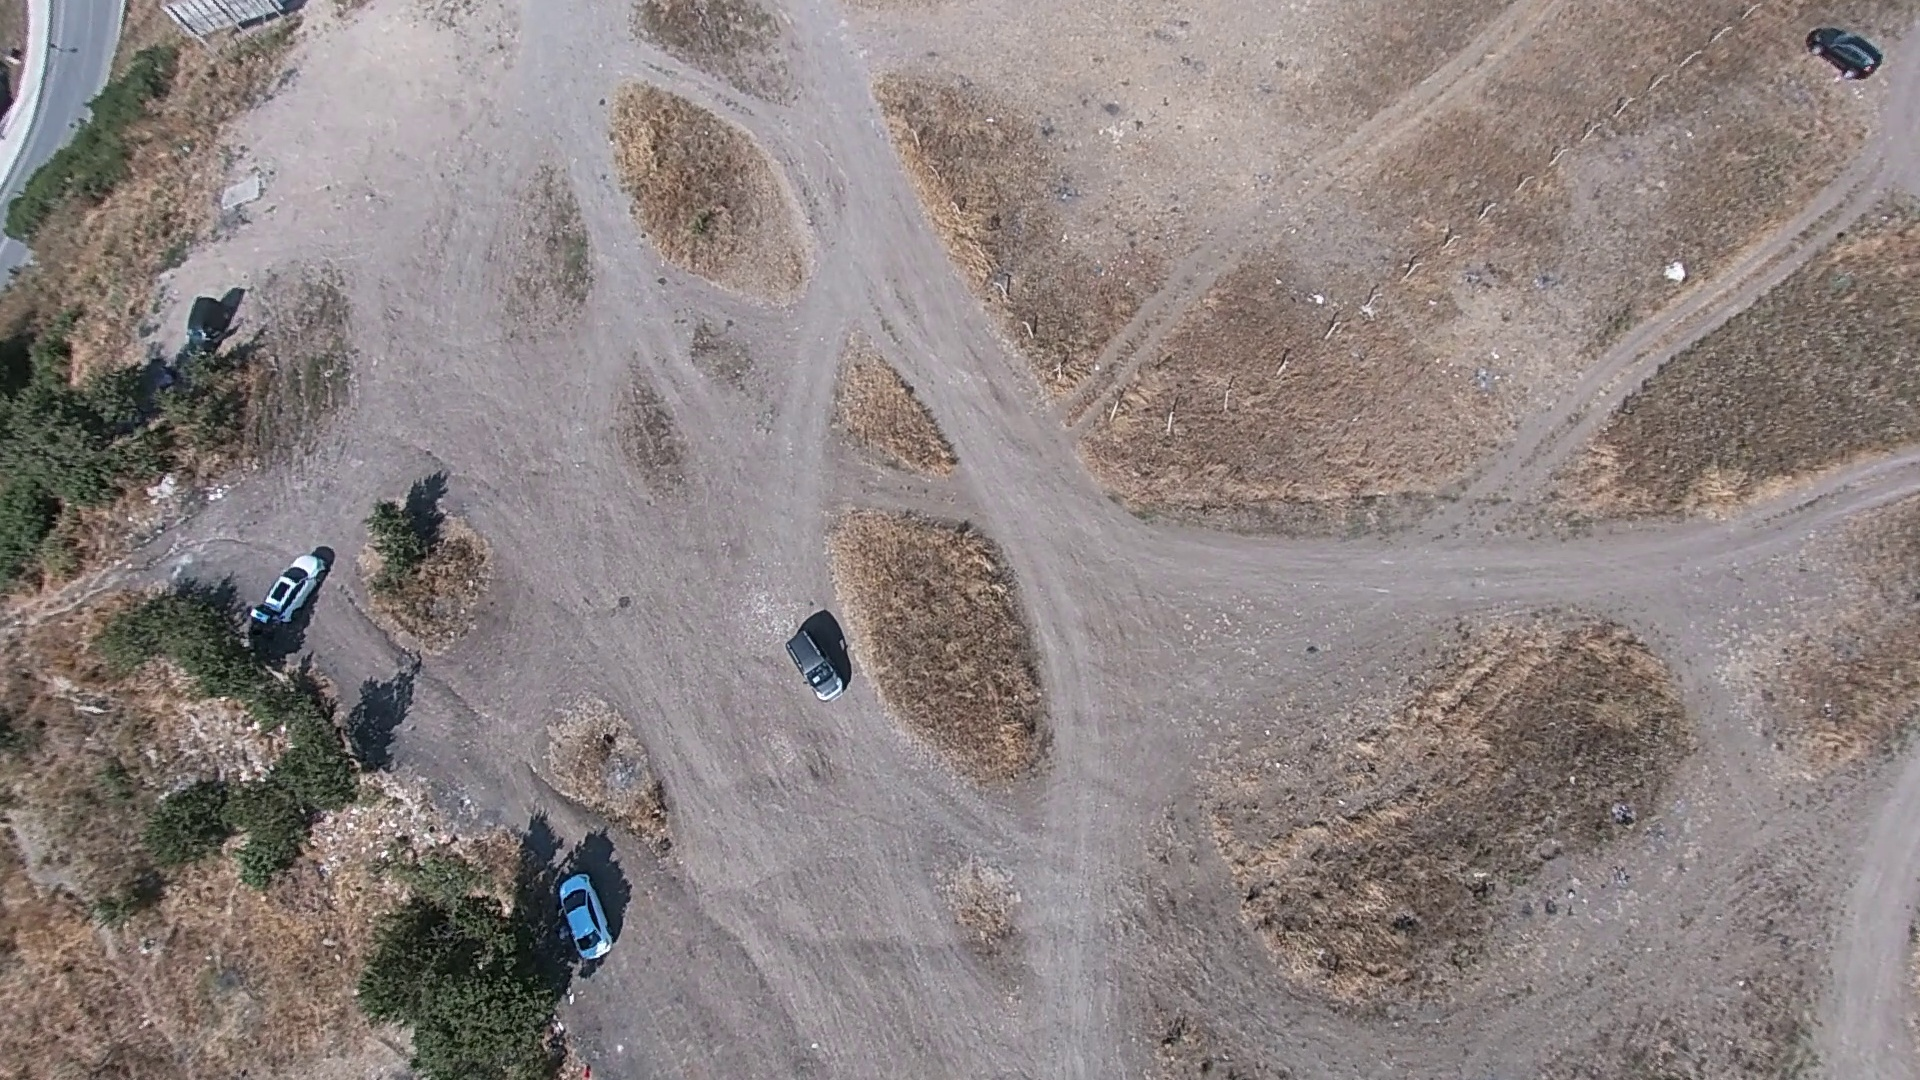arac: (247, 549, 328, 632), (549, 872, 615, 964), (781, 618, 847, 702)
